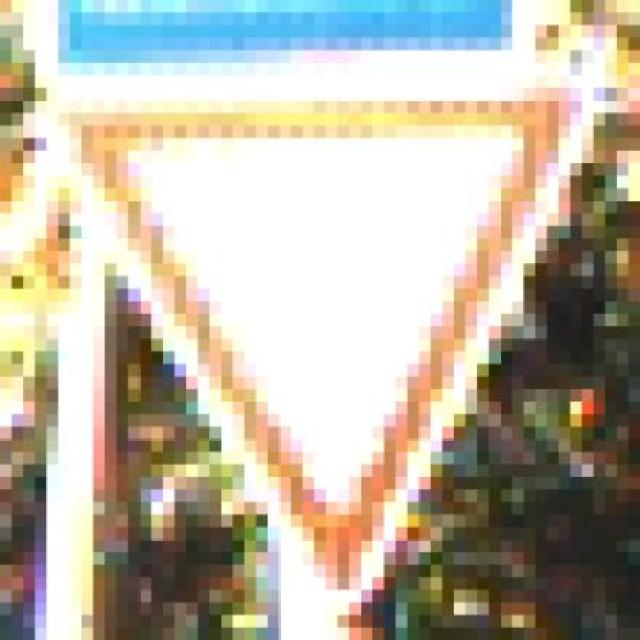Give Way: (23, 88, 629, 628)
